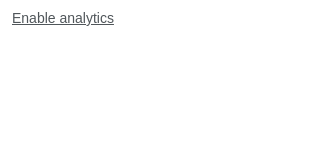
Test case: persists the opt-out and reports storage write failures
The width and height of the screenshot is (332, 160).
Earlier steps of the test are not shown.
Click the button "Enable analytics".
click(63, 18)  # box [12,8,114,28]
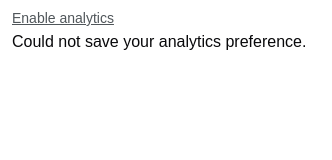
Result: the message shows "Could not save" at [12,33,306,50]
